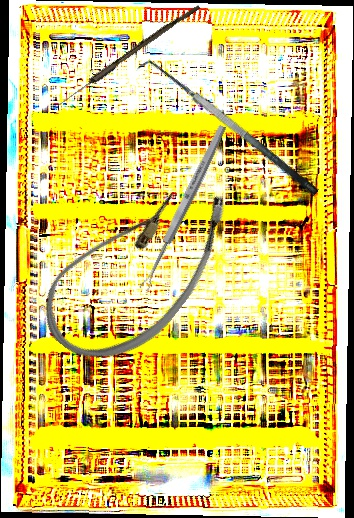Cannula: (25, 147, 250, 389)
Spatula Surgical: (135, 49, 320, 211)
Surgical Spoon: (51, 1, 201, 113), (137, 123, 229, 293)
